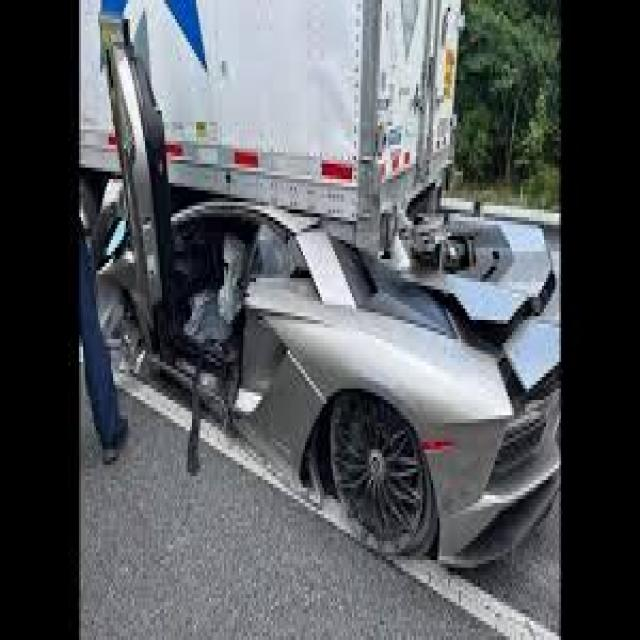car-serious-accident: (130, 0, 557, 583)
